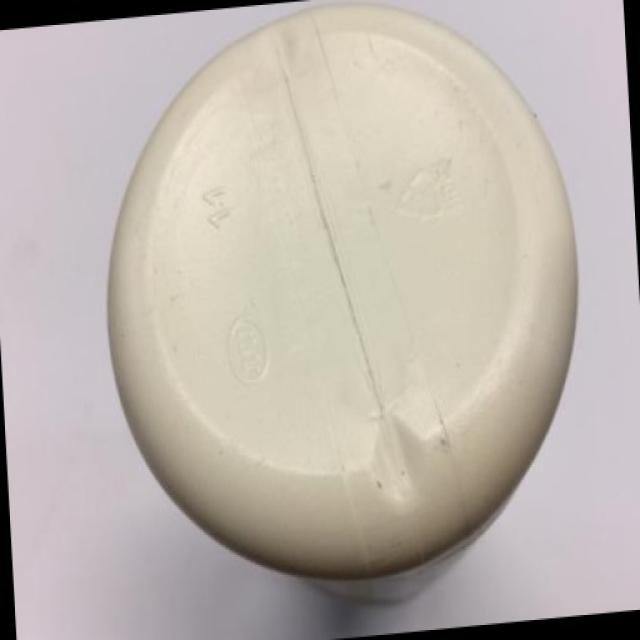plastico: (88, 0, 608, 627)
